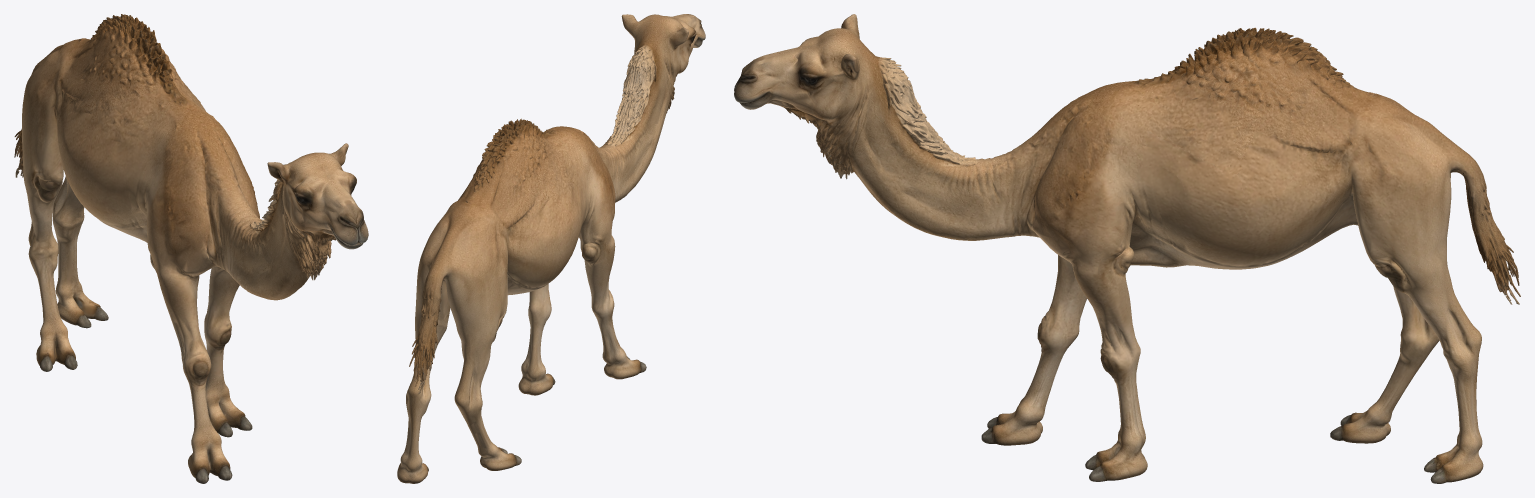
Rendered from camel.glb.
3 views of the same model, side by side, from view 1: azimuth 30°, elevation 25°; view 2: azimuth 150°, elevation 25°; view 3: azimuth 270°, elevation 25° (orthographic). The views are drawn at different scales.
Size of the model in its own units: 0.018 by 0.05 by 0.0839.
1 material, 1 textured.
